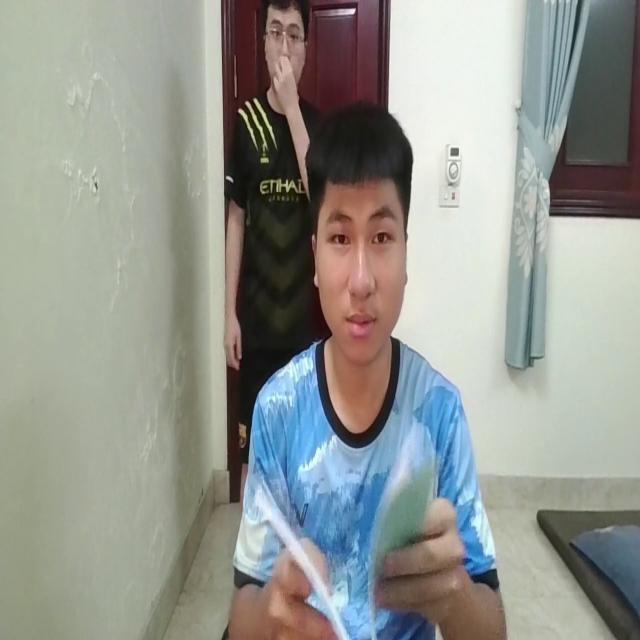book: (259, 459, 431, 640)
extra_person: (220, 4, 322, 416)
student: (246, 101, 504, 640)
